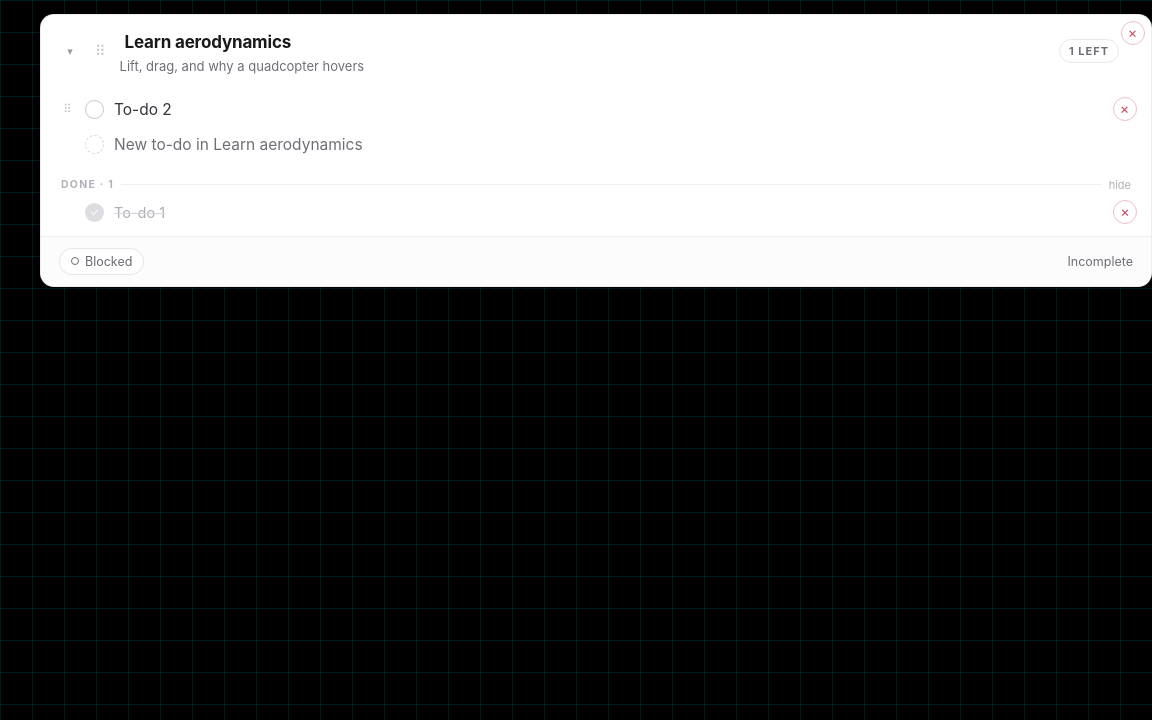
Test: SequenceCard › counts the finished to-dos in the delete prompt too
The image size is (1152, 720).
Click the button named "Delete sequence “Learn aerodynamics”": (1133, 33) [1121, 21, 1145, 45]
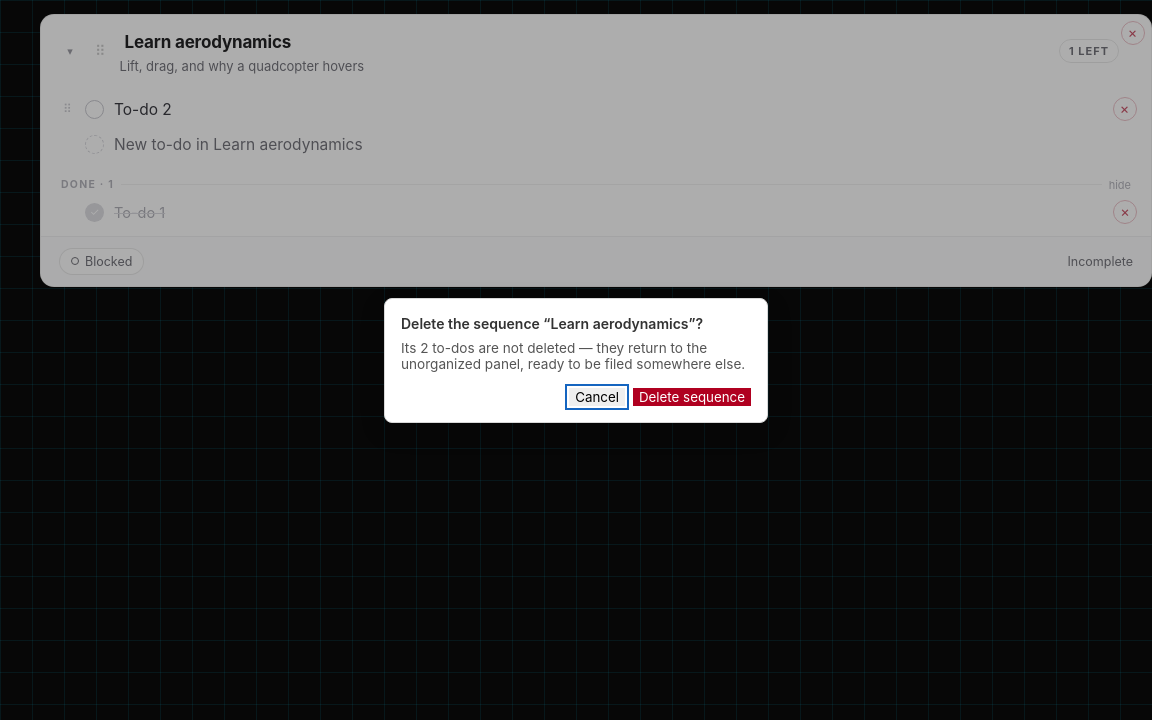
Expected: the dialog shows "Its 2 to-dos", [401, 340, 745, 372]
